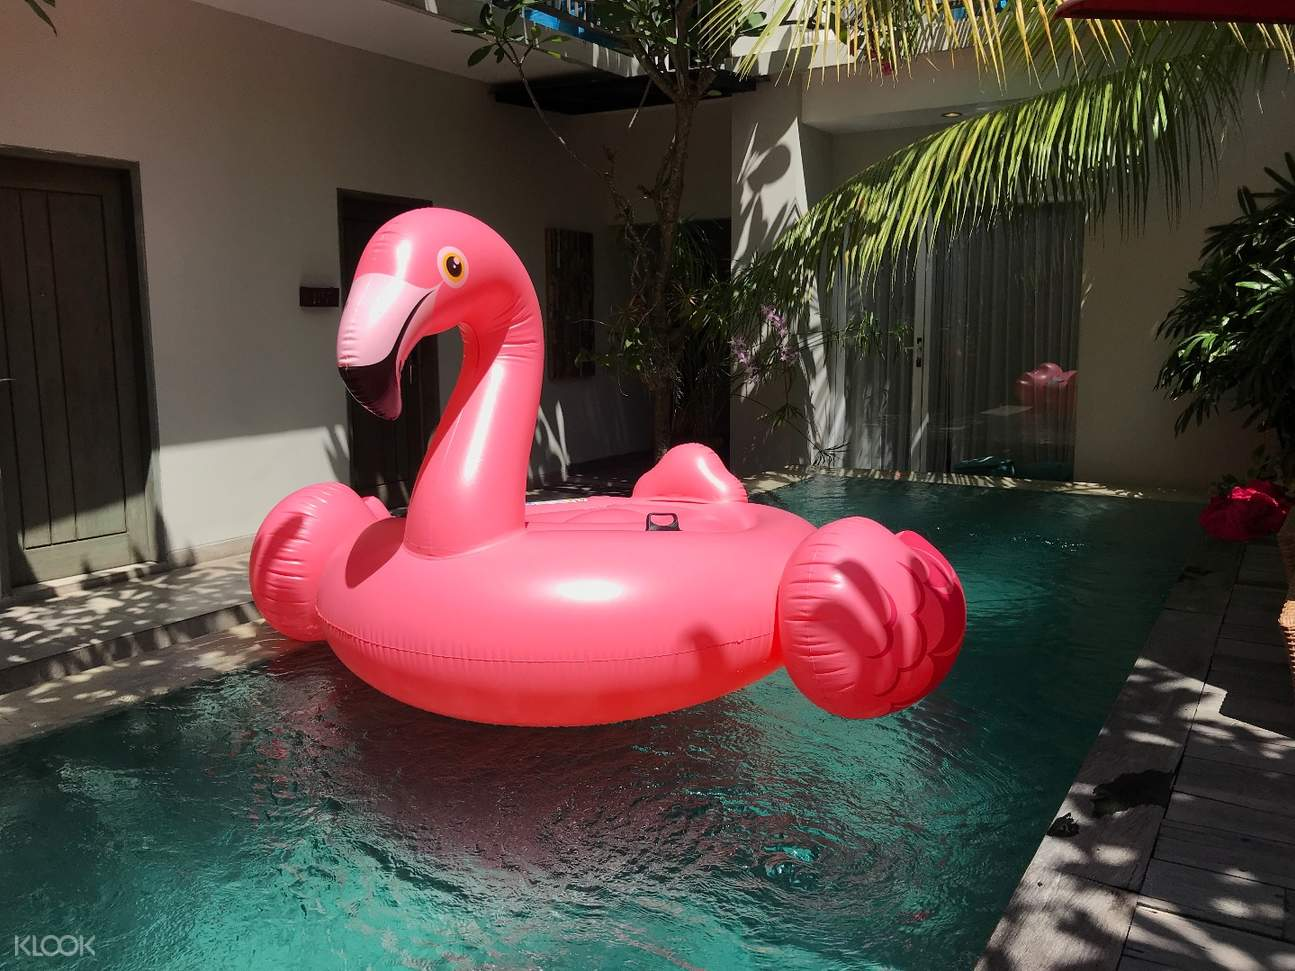Flamingo: (242, 200, 972, 742)
